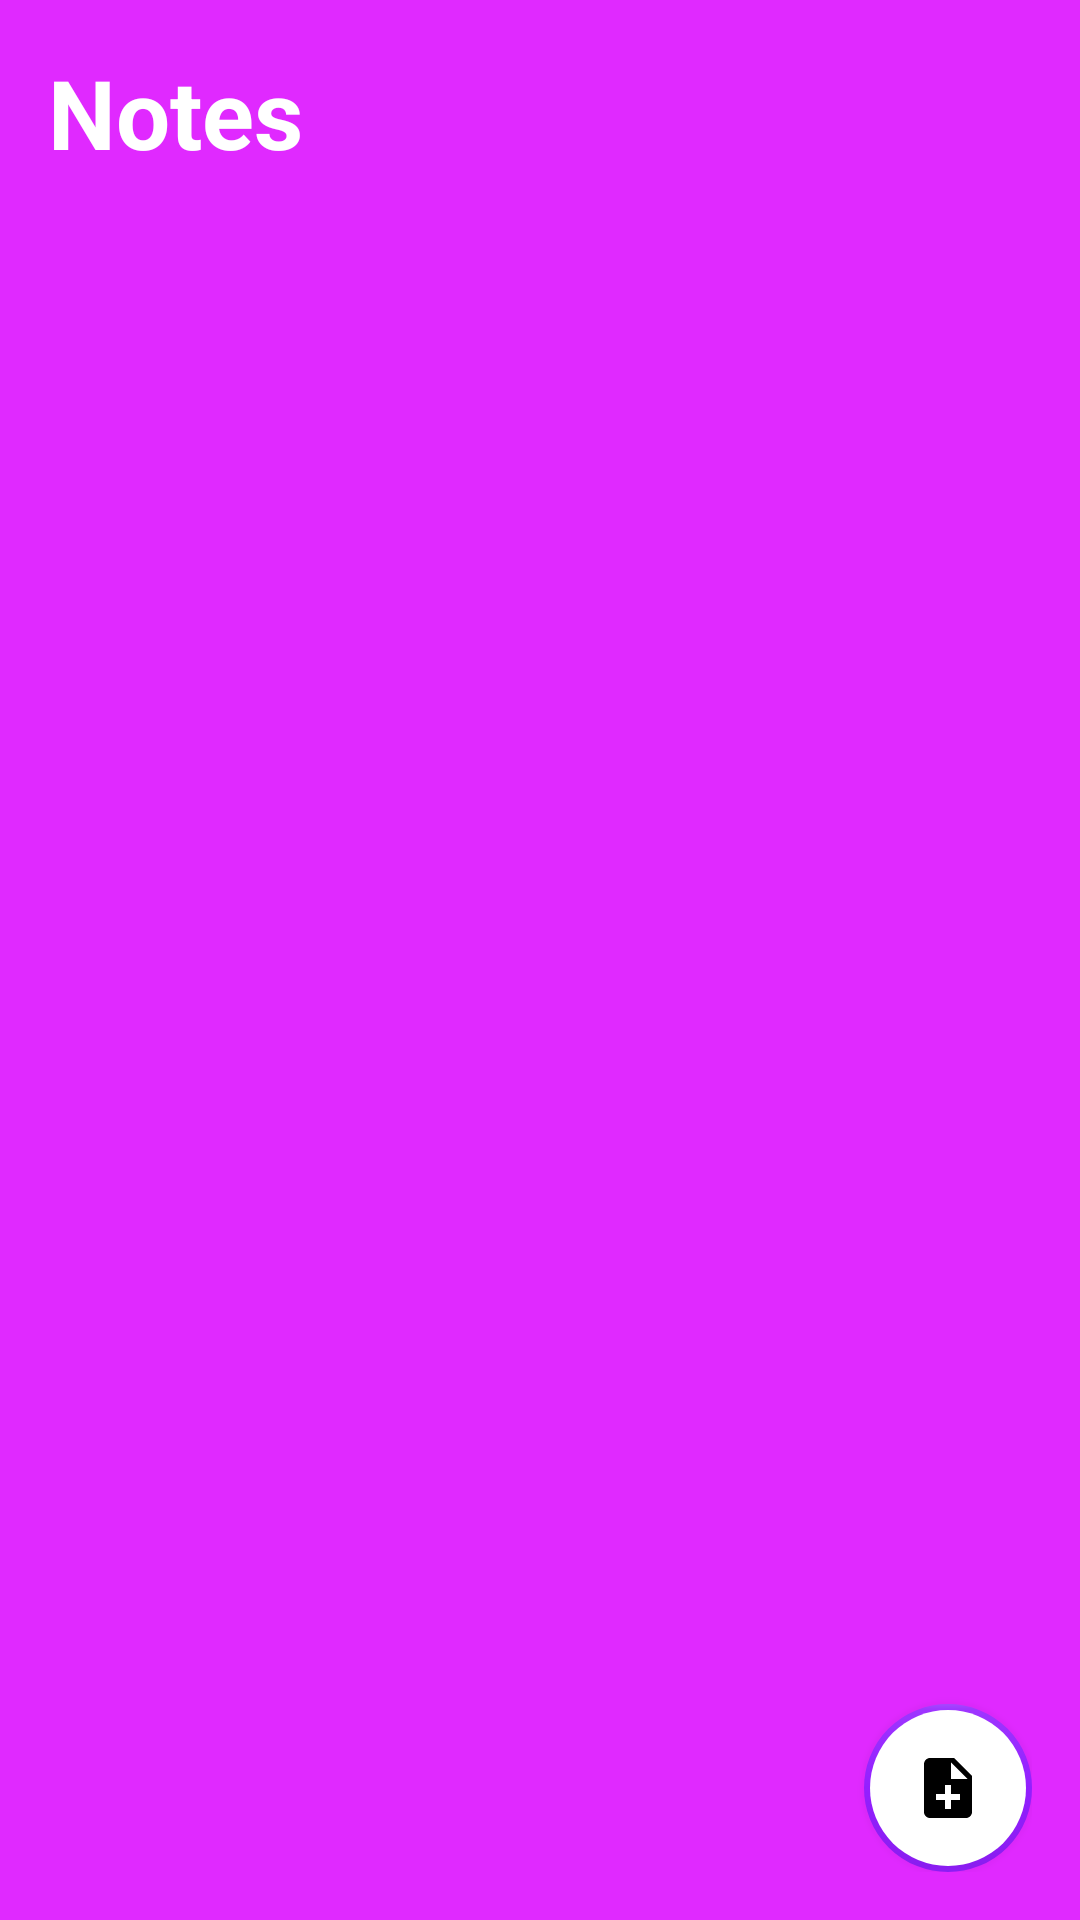

Point at icon controls on the screen. Image size 1080 × 1920, points as (x,y).
note add: (948,1788)
